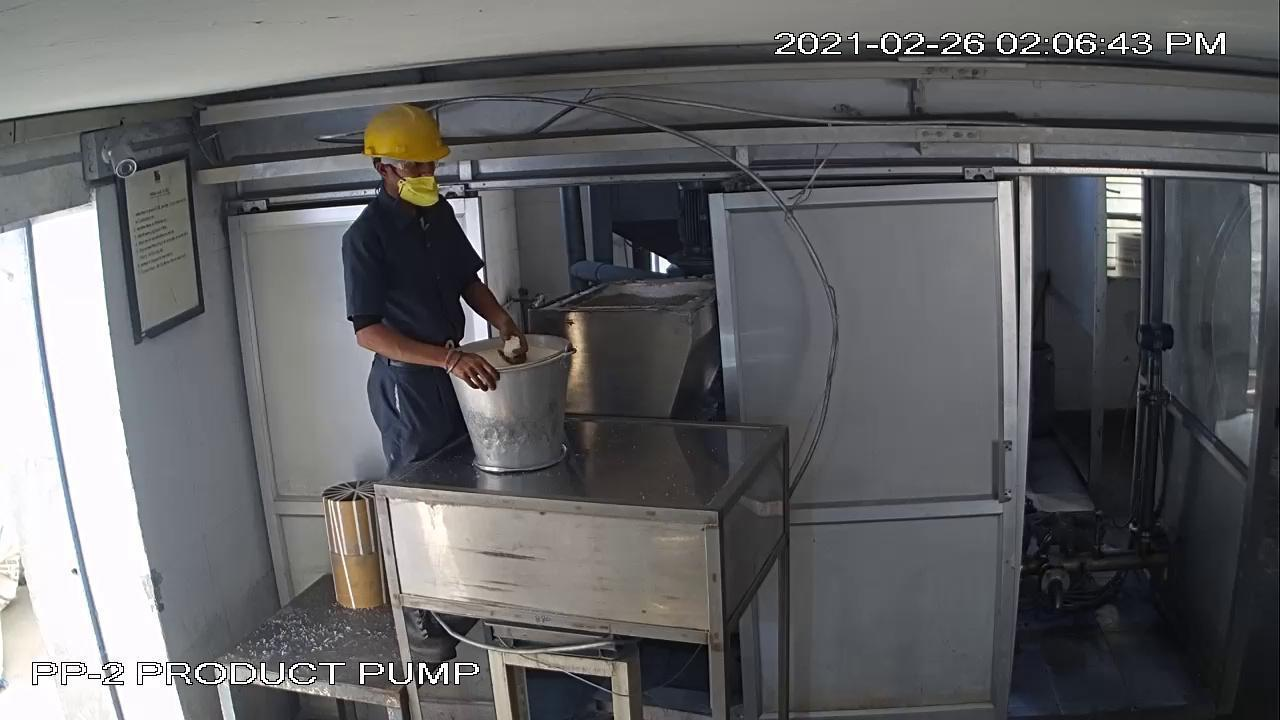helmet: (343, 99, 460, 173)
